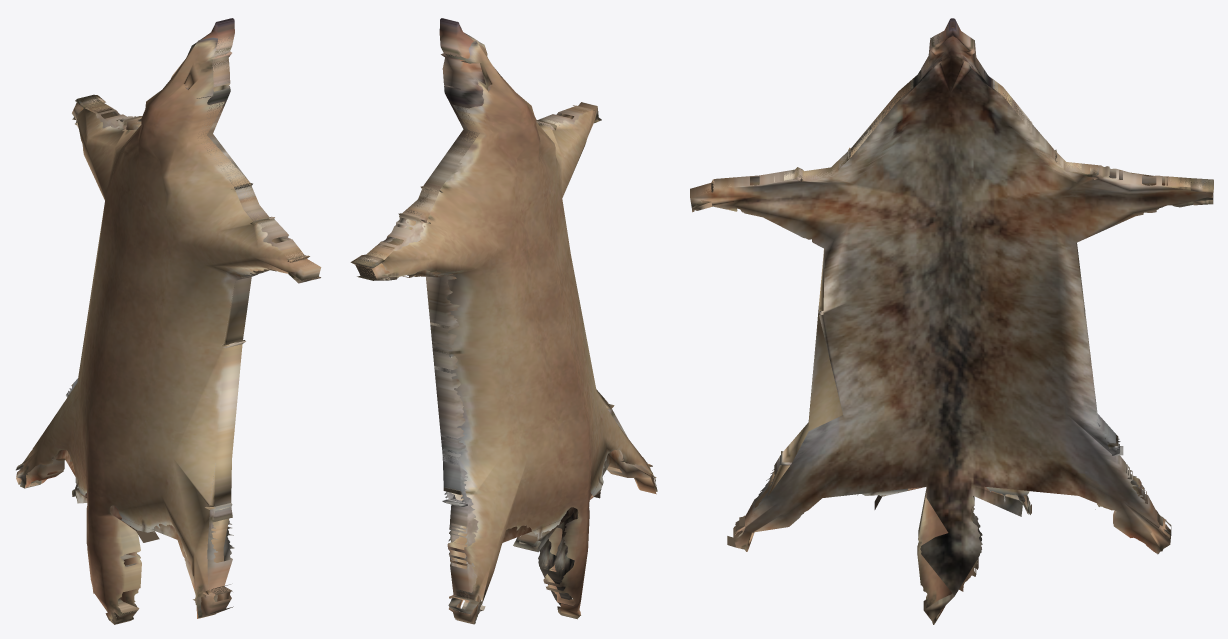
The model's file is solo.fbx.
The picture shows the model from 3 angles, left to right: view 1: azimuth 30°, elevation 25°; view 2: azimuth 150°, elevation 25°; view 3: azimuth 270°, elevation 25°; orthographic projection. The views are drawn at different scales.
Parts seen in each view (by area): view 1: Tannery.001; view 2: Tannery.001; view 3: Tannery.001.
Boxes of the visible parts, x1,y1,x2,y2 form: Tannery.001: [16, 18, 321, 624]; Tannery.001: [350, 18, 657, 624]; Tannery.001: [690, 18, 1213, 624].
Size of the model in its own units: 20.19 by 75.38 by 53.83.
